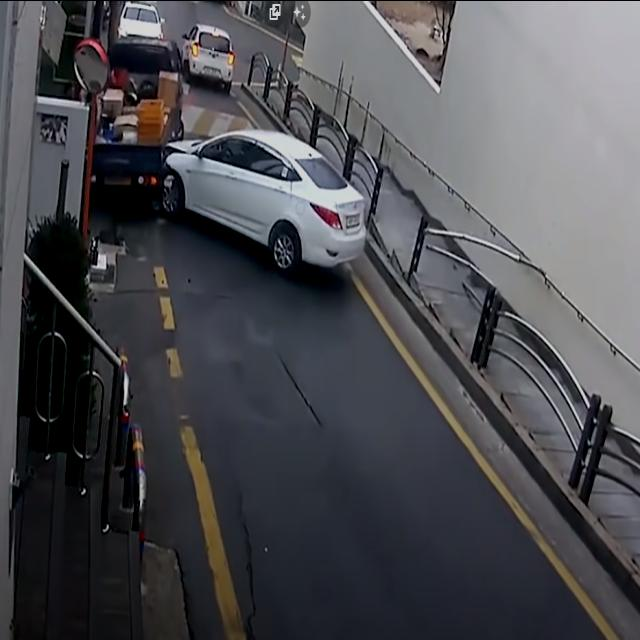accident: (90, 40, 368, 280)
non-accident: (117, 3, 233, 92)
